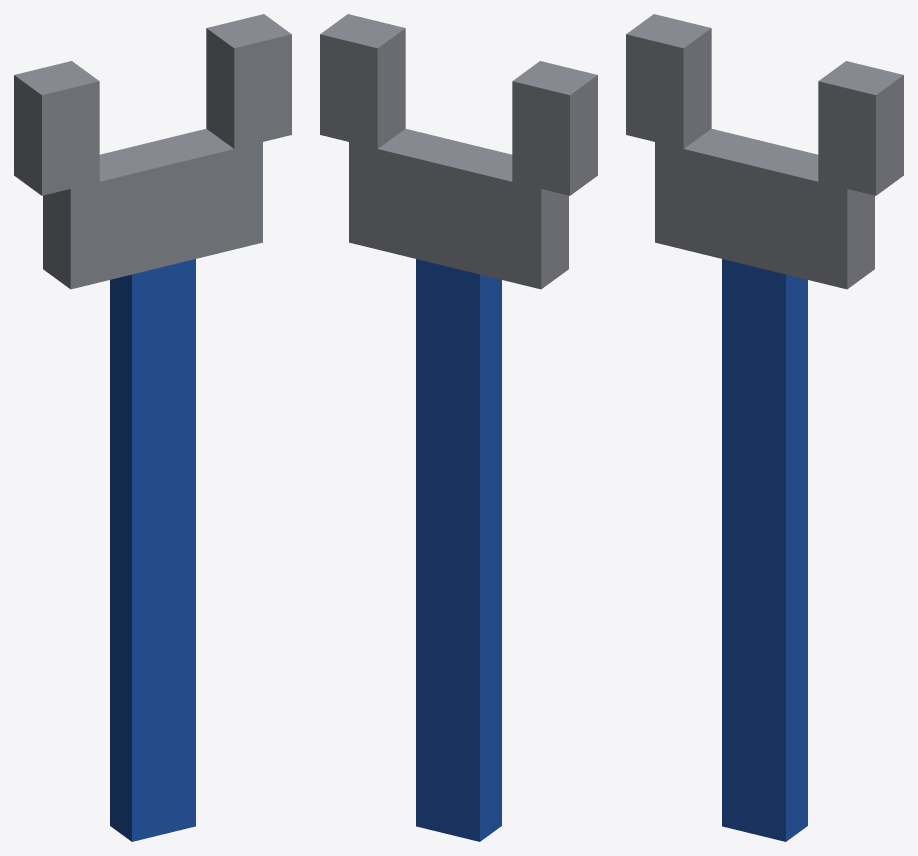
File: blue_wrench.glb
The picture shows the model from 3 angles, left to right: view 1: azimuth 30°, elevation 25°; view 2: azimuth 150°, elevation 25°; view 3: azimuth 330°, elevation 25°; orthographic projection.
Parts seen in each view (by area): view 1: blue_wrench_v0; view 2: blue_wrench_v0; view 3: blue_wrench_v0.
Part boxes in pixels (bbox=[...]): blue_wrench_v0: bbox=[14, 14, 291, 841]; blue_wrench_v0: bbox=[320, 14, 597, 841]; blue_wrench_v0: bbox=[626, 14, 903, 841].
Size of the model in its own units: 0.156 by 0.46 by 0.03.
